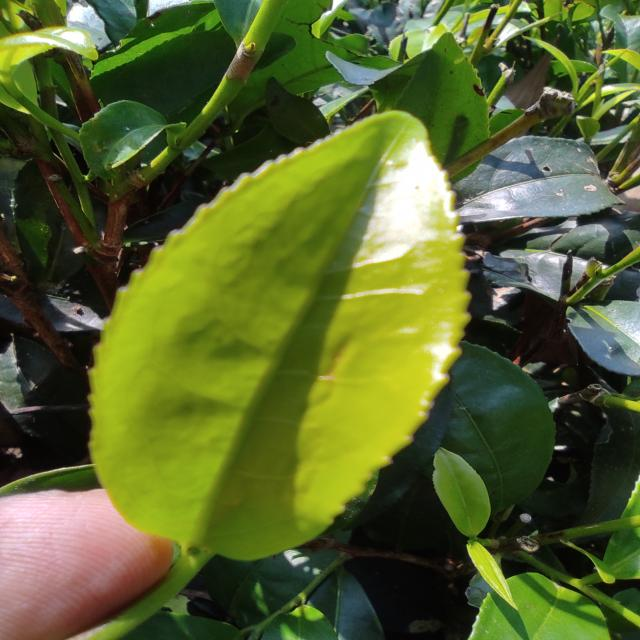Category C 4-7 days: (70, 104, 508, 566)
